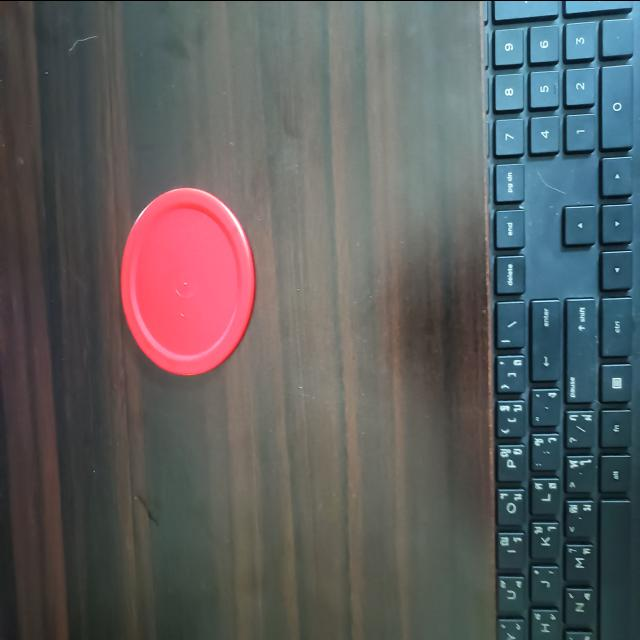chip: (118, 184, 258, 380)
